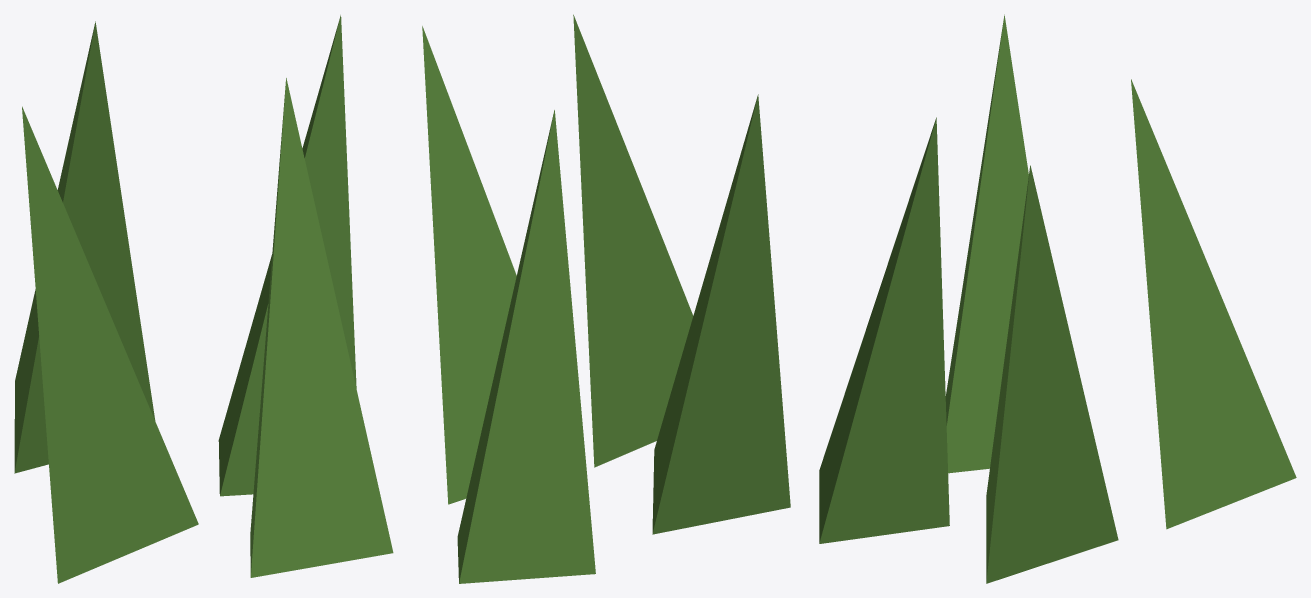
Rendered from grass.glb.
The picture shows the model from 3 angles, left to right: view 1: azimuth 30°, elevation 25°; view 2: azimuth 150°, elevation 25°; view 3: azimuth 270°, elevation 25°; orthographic projection. The views are drawn at different scales.
Visible parts, largest first — view 1: grass; view 2: grass; view 3: grass.
Boxes of the visible parts, x1,y1,x2,y2 form: grass: (14, 15, 393, 583); grass: (422, 14, 790, 583); grass: (819, 14, 1296, 583).
Bounding box in the file's own units: 0.2017 × 0.2641 × 0.2706.
